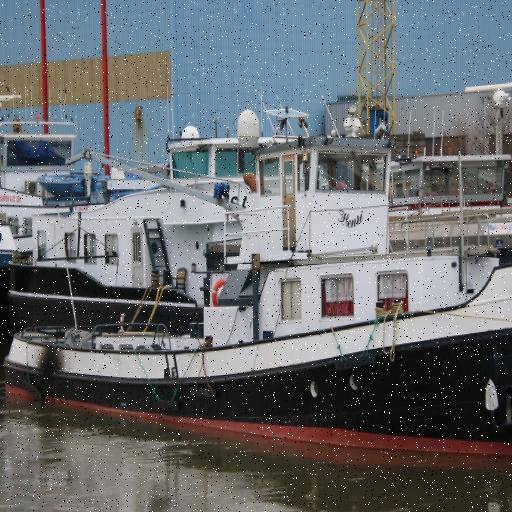tugboat: (1, 101, 512, 486)
